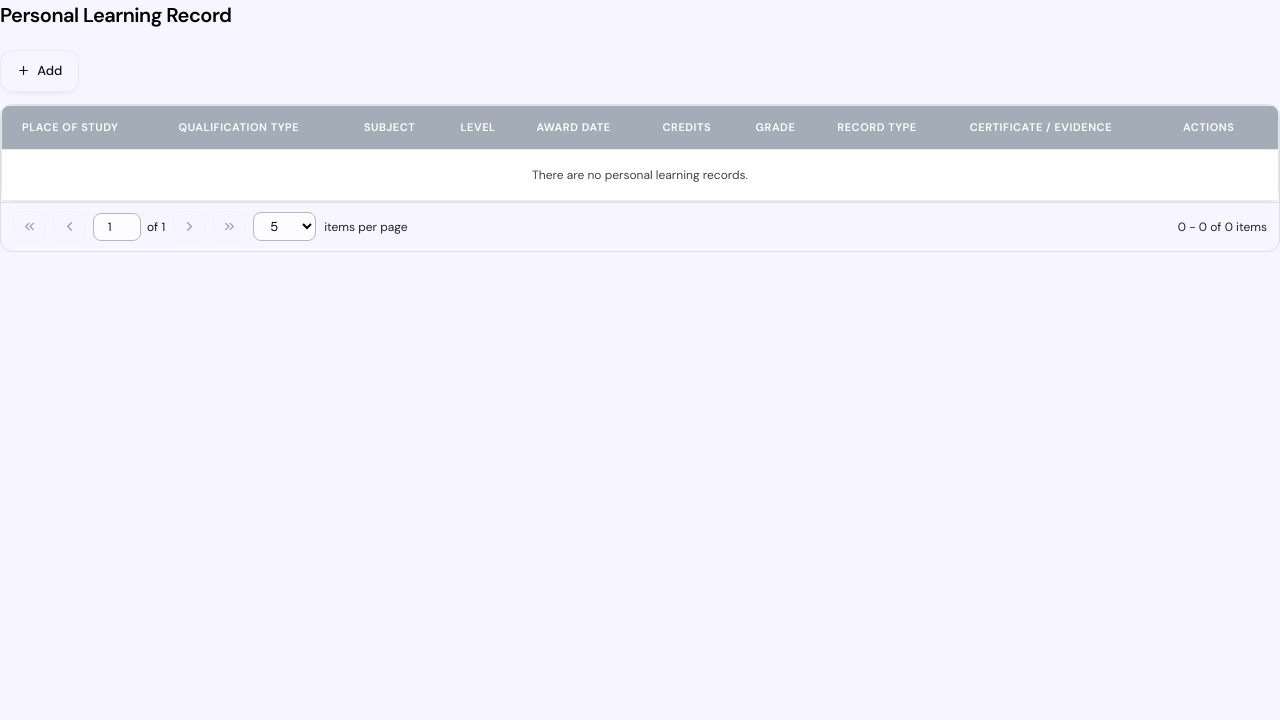
Personal Learning Record step › will not save an entry with required fields missing
Click the button "Add" at (40, 71), box 0,50 -> 79,92
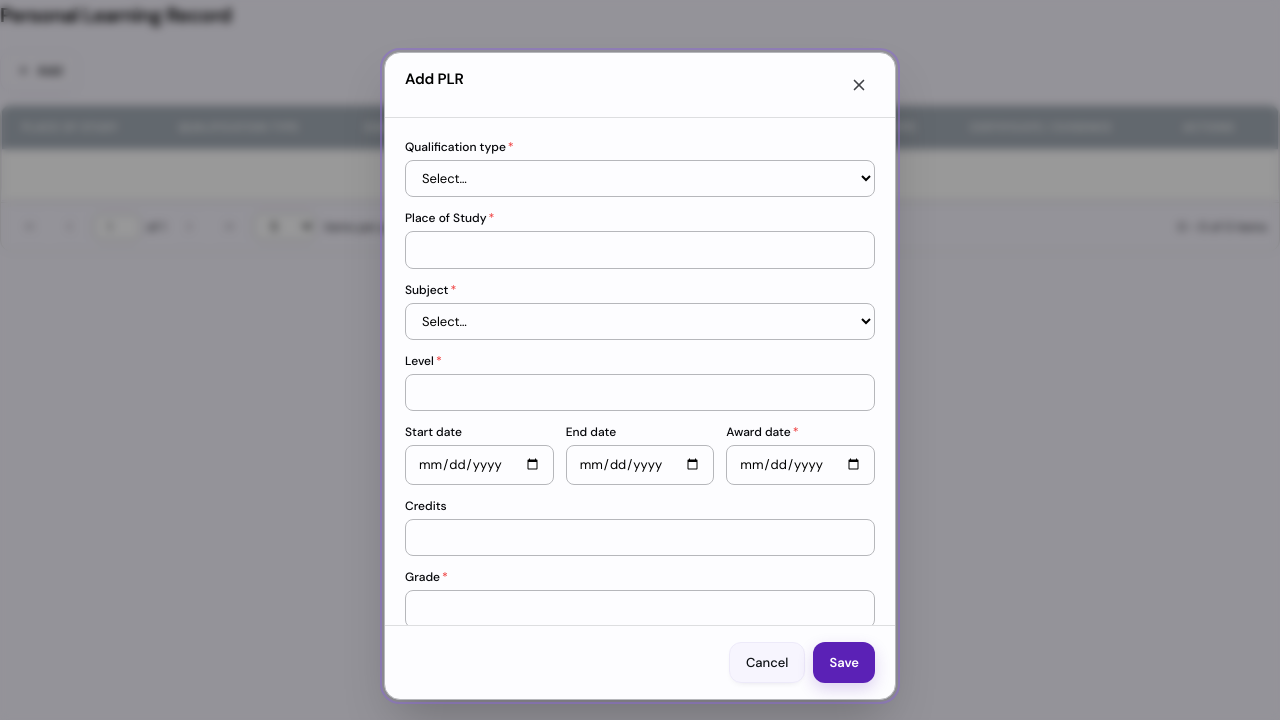
Click the button "Save" at (844, 662), box 813,642 -> 875,683
(page scrolled)
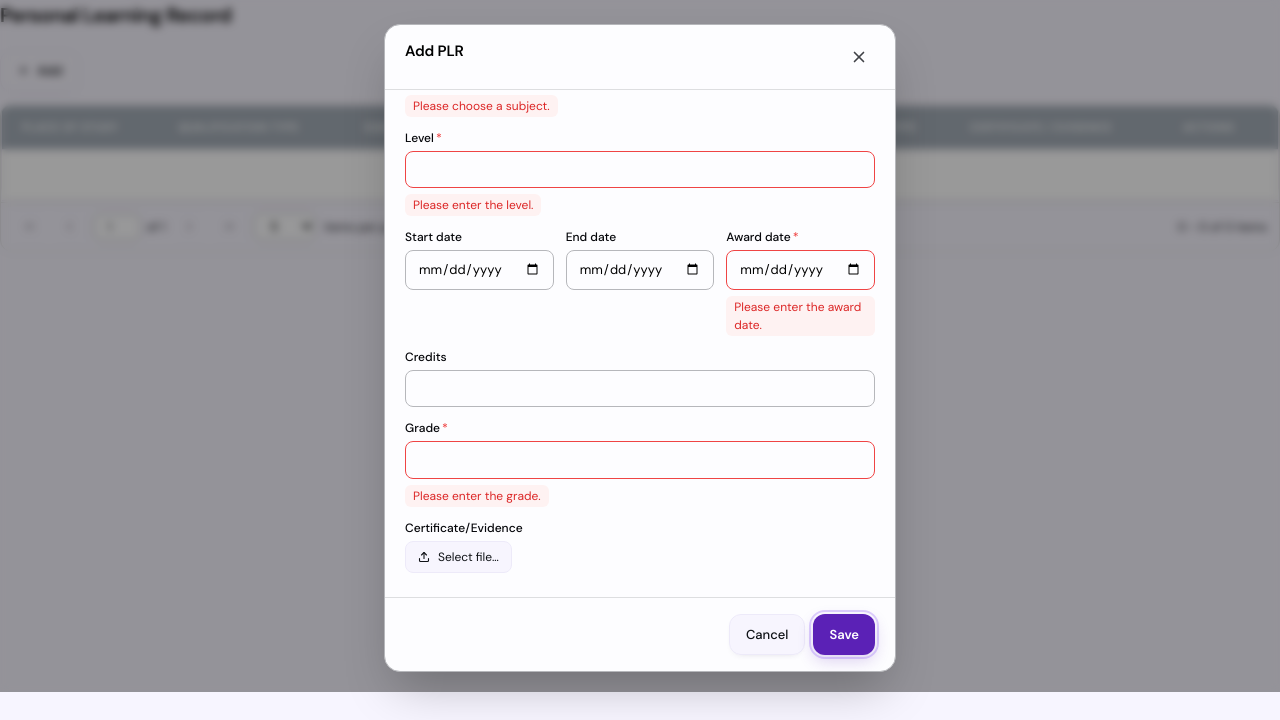
Check: the text "Please choose a subject." is shown, box 405,94 -> 558,116
Check: the text "Please enter the level." is shown, box 405,194 -> 542,216
Check: the text "Please enter the award date." is shown, box 726,296 -> 875,336
